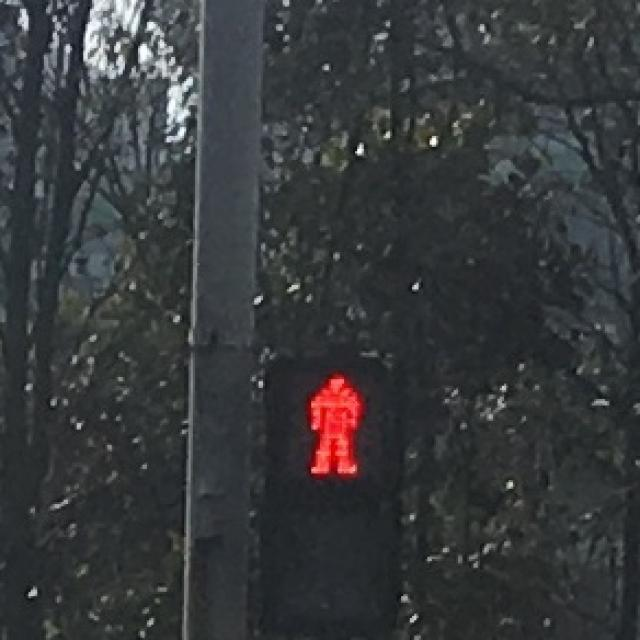red-crossing: (276, 364, 390, 478)
